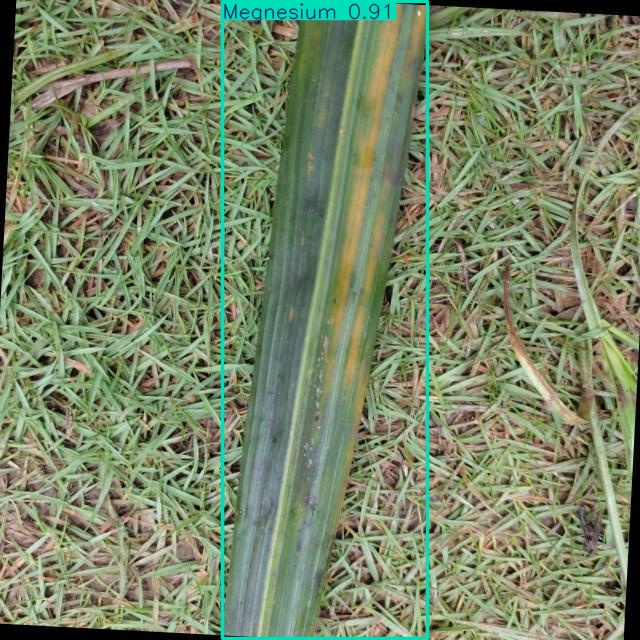Megnesium: (222, 1, 428, 639)
